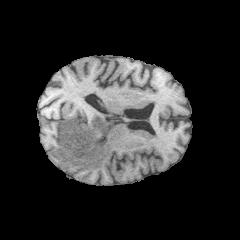glioma: (54, 115, 115, 171)
